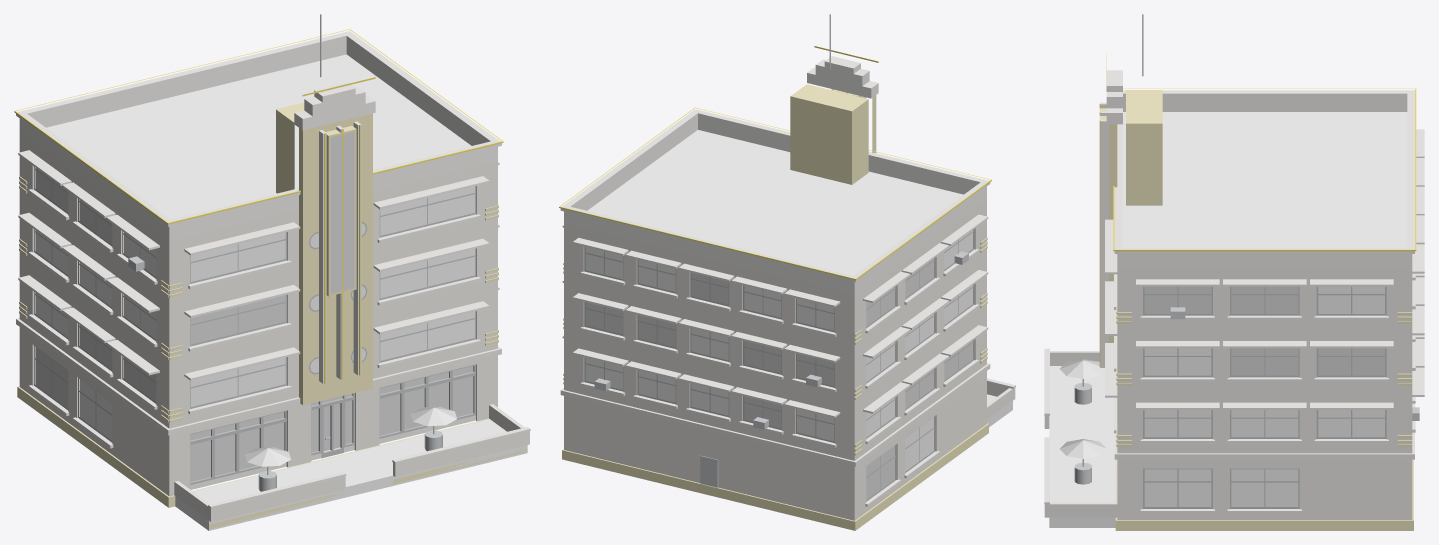
Rendered from deco_w66f3.glb.
The picture shows the model from 3 angles, left to right: view 1: azimuth 30°, elevation 25°; view 2: azimuth 150°, elevation 25°; view 3: azimuth 270°, elevation 25°; orthographic projection. The views are drawn at different scales.
Visible parts, largest first — view 1: deco_w66f3_Walls, deco_w66f3_Trim, deco_w66f3_Roof, deco_w66f3_Accent, deco_w66f3_Glass, deco_w66f3_WindowsLit, deco_w66f3_Frames, deco_w66f3_Walls2, deco_w66f3_Brand, deco_w66f3_Neon, deco_w66f3_Awning, deco_w66f3_Details; view 2: deco_w66f3_Walls, deco_w66f3_Trim, deco_w66f3_Roof, deco_w66f3_Accent, deco_w66f3_Glass, deco_w66f3_WindowsLit, deco_w66f3_Frames, deco_w66f3_Neon, deco_w66f3_Details; view 3: deco_w66f3_Walls, deco_w66f3_Roof, deco_w66f3_Trim, deco_w66f3_Glass, deco_w66f3_Accent, deco_w66f3_Walls2, deco_w66f3_WindowsLit, deco_w66f3_Frames, deco_w66f3_Neon, deco_w66f3_Awning, deco_w66f3_Details.
Part boxes in pixels (box(x1,y1,x2,y2)): deco_w66f3_Walls: box(19, 132, 529, 522); deco_w66f3_Trim: box(16, 31, 530, 508); deco_w66f3_Roof: box(46, 54, 471, 219); deco_w66f3_Accent: box(17, 102, 527, 529); deco_w66f3_Glass: box(35, 186, 474, 440); deco_w66f3_WindowsLit: box(35, 168, 473, 481); deco_w66f3_Frames: box(34, 166, 476, 484); deco_w66f3_Walls2: box(175, 419, 527, 530); deco_w66f3_Brand: box(330, 132, 354, 293); deco_w66f3_Neon: box(14, 29, 503, 383); deco_w66f3_Awning: box(244, 406, 456, 466); deco_w66f3_Details: box(128, 14, 442, 491); deco_w66f3_Walls: box(564, 198, 1015, 520); deco_w66f3_Trim: box(560, 56, 1015, 506); deco_w66f3_Roof: box(587, 130, 963, 275); deco_w66f3_Accent: box(562, 84, 988, 530); deco_w66f3_Glass: box(585, 230, 972, 471); deco_w66f3_WindowsLit: box(585, 258, 972, 499); deco_w66f3_Frames: box(584, 229, 974, 501); deco_w66f3_Neon: box(559, 46, 991, 280); deco_w66f3_Details: box(594, 14, 968, 487); deco_w66f3_Walls: box(1044, 268, 1412, 519); deco_w66f3_Roof: box(1122, 112, 1407, 247); deco_w66f3_Trim: box(1044, 70, 1424, 513); deco_w66f3_Glass: box(1144, 286, 1384, 506); deco_w66f3_Accent: box(1099, 90, 1413, 530); deco_w66f3_Walls2: box(1049, 366, 1117, 527); deco_w66f3_WindowsLit: box(1144, 286, 1384, 375); deco_w66f3_Frames: box(1143, 286, 1386, 508); deco_w66f3_Neon: box(1099, 54, 1416, 366); deco_w66f3_Awning: box(1060, 359, 1106, 458); deco_w66f3_Details: box(1074, 14, 1419, 484).
Bounding box in the file's own units: 70.4 × 85 × 67.1.
